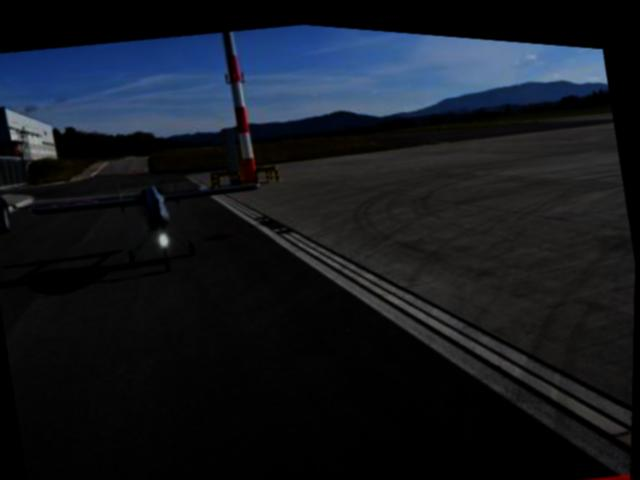uav: (25, 151, 276, 299)
